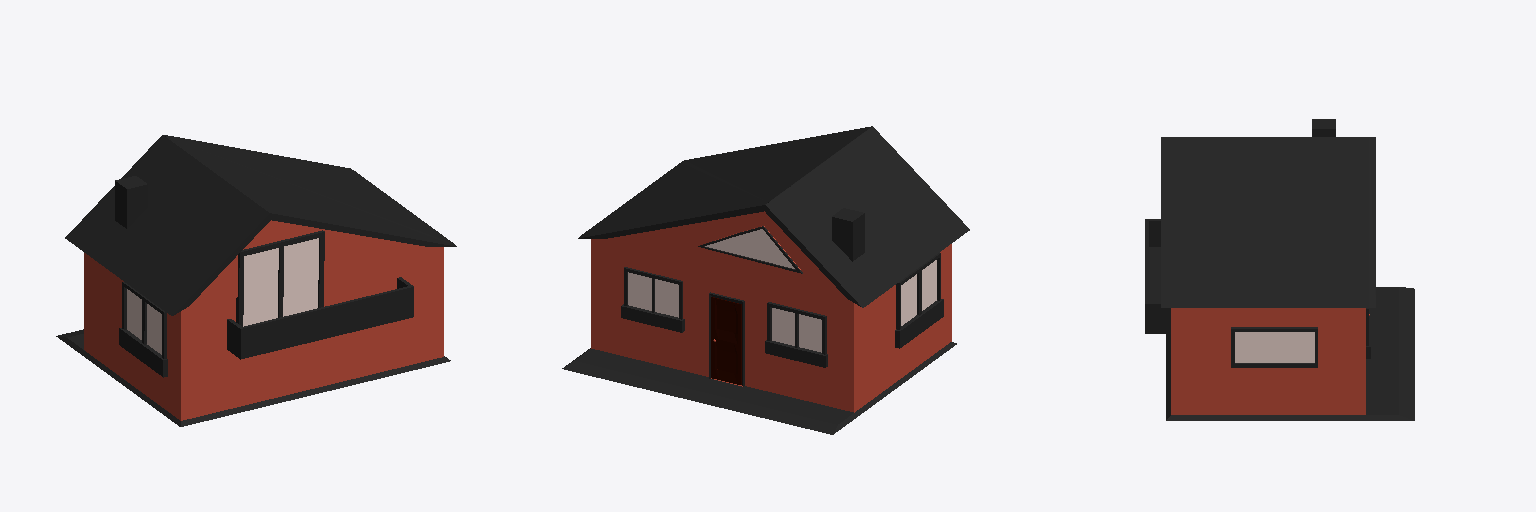
Rendered from smallhouse.obj.
3 renders of one model, left to right at view 1: azimuth 30°, elevation 25°; view 2: azimuth 150°, elevation 25°; view 3: azimuth 270°, elevation 25°, orthographic.
Visible parts, largest first — view 1: Cube.002; view 2: Cube.002; view 3: Cube.002.
Boxes of the visible parts, <box> form: Cube.002: <box>56,135,456,426</box>; Cube.002: <box>562,126,969,434</box>; Cube.002: <box>1145,119,1414,420</box>.
Bounding box in the file's own units: 3.4 × 2.21 × 2.79.